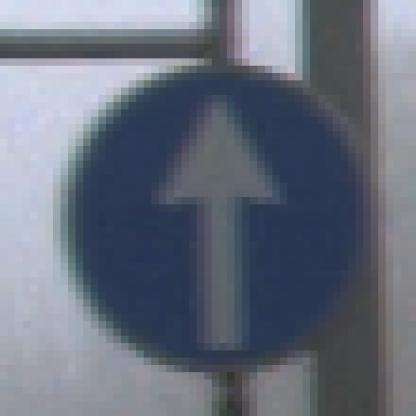AheadOnly: (47, 45, 380, 380)
